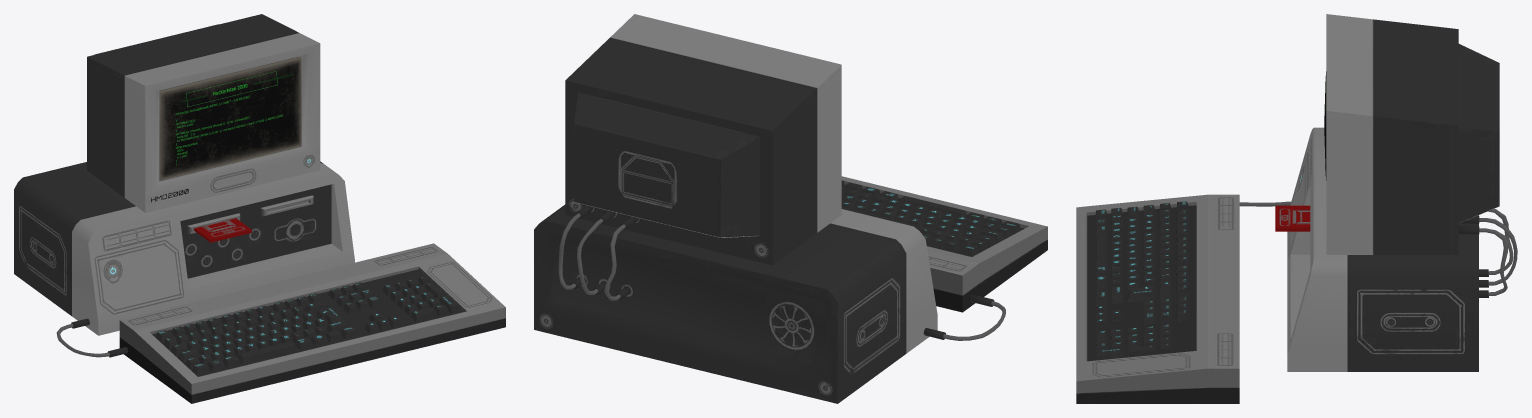
Rendered from sciFiCom-transformed.glb.
3 renders of one model, left to right at view 1: azimuth 30°, elevation 25°; view 2: azimuth 150°, elevation 25°; view 3: azimuth 270°, elevation 25°, orthographic. The views are drawn at different scales.
Visible parts, largest first — view 1: scifi_computer_computer_0, scifi_computer_keyboard_0, scifi_computer_screen_0, scifi_computer_keys_0; view 2: scifi_computer_computer_0, scifi_computer_keyboard_0, scifi_computer_keys_0, scifi_computer_screen_0; view 3: scifi_computer_computer_0, scifi_computer_keyboard_0, scifi_computer_keys_0, scifi_computer_screen_0.
Boxes of the visible parts, box(x1,y1,x2,y2) form: scifi_computer_computer_0: box(14, 14, 354, 335); scifi_computer_keyboard_0: box(119, 195, 505, 403); scifi_computer_screen_0: box(56, 56, 301, 357); scifi_computer_keys_0: box(156, 275, 459, 375); scifi_computer_computer_0: box(534, 14, 937, 403); scifi_computer_keyboard_0: box(841, 176, 1047, 312); scifi_computer_keys_0: box(841, 180, 1020, 256); scifi_computer_screen_0: box(558, 205, 1005, 340); scifi_computer_computer_0: box(1275, 14, 1499, 371); scifi_computer_keyboard_0: box(1076, 194, 1239, 403); scifi_computer_keys_0: box(1095, 201, 1189, 360); scifi_computer_screen_0: box(1239, 71, 1517, 297).
Size of the model in its own units: 4.84 by 2.9 by 4.61.
Materials: 4 (4 with a texture image).
